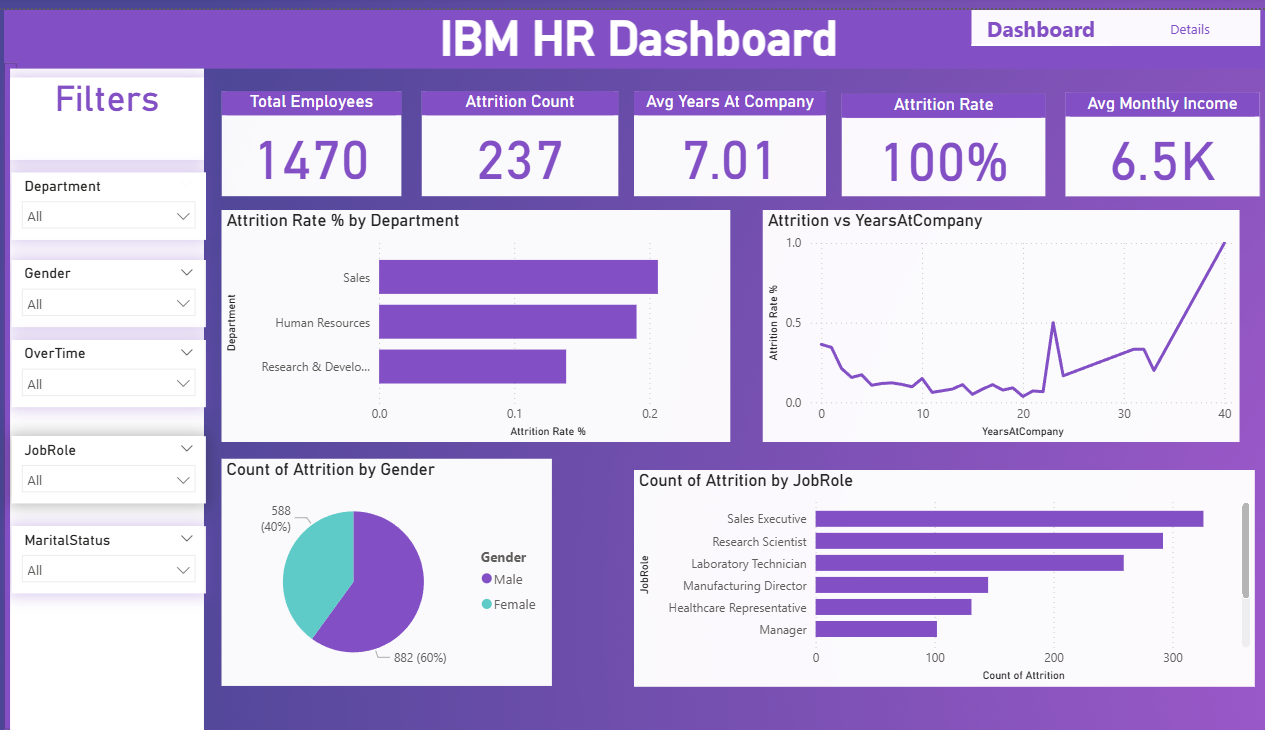

The page's visual inventory and layout, read from the dashboard file:
{"tool":"powerbi","page":{"name":"Dashboard","canvas":[1280,720],"ordinal":0},"visuals":[{"type":"textbox","title":"IBM HR Dashboard","box":[10,0,1270,58.8],"z":0},{"type":"card","title":"Total Employees","fields":{"Values":["WA_Fn_UseC__HR_Employee_Attrition.Total Employees"]},"box":[227.4,80.7,179.8,105.2],"z":1000},{"type":"card","title":"Attrition Count","fields":{"Values":["WA_Fn_UseC__HR_Employee_Attrition.Attrition Count"]},"box":[428,80.7,196.9,105.2],"z":2000},{"type":"card","title":"Attrition Rate ","fields":{"Values":["WA_Fn_UseC__HR_Employee_Attrition.Attrition Rate"]},"box":[847.4,83.2,204.2,102.7],"z":3000},{"type":"card","title":"Avg Monthly Income","fields":{"Values":["WA_Fn_UseC__HR_Employee_Attrition.Avg Monthly Income"]},"box":[1071.2,81.9,194.4,103.9],"z":4000},{"type":"card","title":"Avg Years At Company ","fields":{"Values":["WA_Fn_UseC__HR_Employee_Attrition.Avg YearsAtCompany"]},"box":[639.5,80.7,192,105.2],"z":5000},{"type":"shape","box":[10,52.9,12.9,667.1],"z":6000},{"type":"shape","box":[16.2,58.8,193.8,661.2],"z":7000},{"type":"textbox","title":"Filters","box":[16.2,67.5,193.8,82.5],"z":8000},{"type":"slicer","fields":{"Values":["WA_Fn_UseC__HR_Employee_Attrition.Department"]},"box":[17.1,162.9,194.3,67.1],"z":9000},{"type":"slicer","fields":{"Values":["WA_Fn_UseC__HR_Employee_Attrition.Department"]},"box":[17.1,162.9,194.3,67.1],"z":10000},{"type":"slicer","fields":{"Values":["WA_Fn_UseC__HR_Employee_Attrition.Gender"]},"box":[17.1,250,194.3,67.1],"z":11000},{"type":"slicer","fields":{"Values":["WA_Fn_UseC__HR_Employee_Attrition.JobRole"]},"box":[17.1,425.7,194.3,67.1],"z":12000},{"type":"slicer","fields":{"Values":["WA_Fn_UseC__HR_Employee_Attrition.MaritalStatus"]},"box":[17.1,515.7,194.3,67.1],"z":13000},{"type":"slicer","fields":{"Values":["WA_Fn_UseC__HR_Employee_Attrition.OverTime"]},"box":[17.1,330,194.3,67.1],"z":14000},{"type":"barChart","fields":{"Y":["WA_Fn_UseC__HR_Employee_Attrition.Attrition Rate"],"Category":["WA_Fn_UseC__HR_Employee_Attrition.Department"]},"box":[227.4,200.5,508.7,232.3],"z":15000},{"type":"lineChart","title":"Attrition vs YearsAtCompany","fields":{"Category":["WA_Fn_UseC__HR_Employee_Attrition.YearsAtCompany"],"Y":["WA_Fn_UseC__HR_Employee_Attrition.Attrition Rate %"]},"box":[769.2,200.5,476.9,232.3],"z":16000},{"type":"pieChart","fields":{"Y":["CountNonNull(WA_Fn_UseC__HR_Employee_Attrition.Attrition)"],"Category":["WA_Fn_UseC__HR_Employee_Attrition.Gender"]},"box":[227.4,448.8,330.2,227.4],"z":17000},{"type":"barChart","fields":{"Y":["CountNonNull(WA_Fn_UseC__HR_Employee_Attrition.Attrition)"],"Category":["WA_Fn_UseC__HR_Employee_Attrition.JobRole"]},"box":[639.5,459.8,621.2,216.4],"z":18000},{"type":"pageNavigator","box":[977.5,0,288.8,36.2],"z":19000}]}

Visuals, with their boxes in screenshot pixels (x1, y1, x2, y2), scaled from the page's 1280x720 canvas onto the 1265x730 screenshot:
"IBM HR Dashboard" textbox: (10,0,1264,60)
"Total Employees" card: (225,82,402,188)
"Attrition Count" card: (423,82,618,188)
"Attrition Rate " card: (837,84,1039,188)
"Avg Monthly Income" card: (1059,83,1251,188)
"Avg Years At Company " card: (632,82,822,188)
shape: (10,54,23,729)
shape: (16,60,208,729)
"Filters" textbox: (16,68,208,152)
slicer - WA_Fn_UseC__HR_Employee_Attrition.Department: (17,165,209,233)
slicer - WA_Fn_UseC__HR_Employee_Attrition.Department: (17,165,209,233)
slicer - WA_Fn_UseC__HR_Employee_Attrition.Gender: (17,253,209,322)
slicer - WA_Fn_UseC__HR_Employee_Attrition.JobRole: (17,432,209,500)
slicer - WA_Fn_UseC__HR_Employee_Attrition.MaritalStatus: (17,523,209,591)
slicer - WA_Fn_UseC__HR_Employee_Attrition.OverTime: (17,335,209,403)
barChart - WA_Fn_UseC__HR_Employee_Attrition.Attrition Rate x WA_Fn_UseC__HR_Employee_Attrition.Department: (225,203,727,439)
"Attrition vs YearsAtCompany" lineChart: (760,203,1231,439)
pieChart - CountNonNull(WA_Fn_UseC__HR_Employee_Attrition.Attrition) x WA_Fn_UseC__HR_Employee_Attrition.Gender: (225,455,551,686)
barChart - CountNonNull(WA_Fn_UseC__HR_Employee_Attrition.Attrition) x WA_Fn_UseC__HR_Employee_Attrition.JobRole: (632,466,1246,686)
pageNavigator: (966,0,1251,37)
